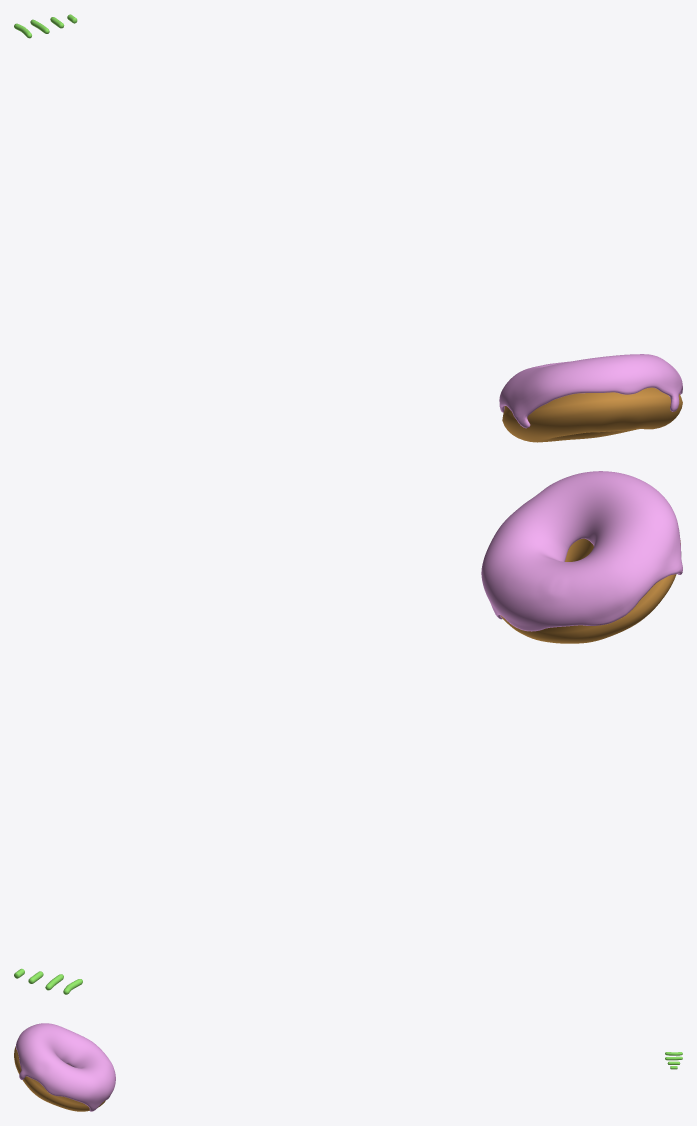
The model's file is donut.fbx.
The picture shows the model from 3 angles, top to bottom: view 1: azimuth 30°, elevation 25°; view 2: azimuth 150°, elevation 25°; view 3: azimuth 270°, elevation 25°; orthographic projection. The views are drawn at different scales.
Visible parts, largest first — view 1: Toping, Donut Body; view 2: Toping, Donut Body; view 3: Toping, Donut Body.
Boxes of the visible parts, x1=… form: Toping: x1=499, y1=354, x2=682, y2=428; Donut Body: x1=502, y1=387, x2=682, y2=442; Toping: x1=481, y1=471, x2=682, y2=631; Donut Body: x1=500, y1=538, x2=680, y2=643; Toping: x1=16, y1=1023, x2=115, y2=1111; Donut Body: x1=14, y1=1046, x2=105, y2=1111.
Bounding box in the file's own units: 33.53 × 22.75 × 202.
